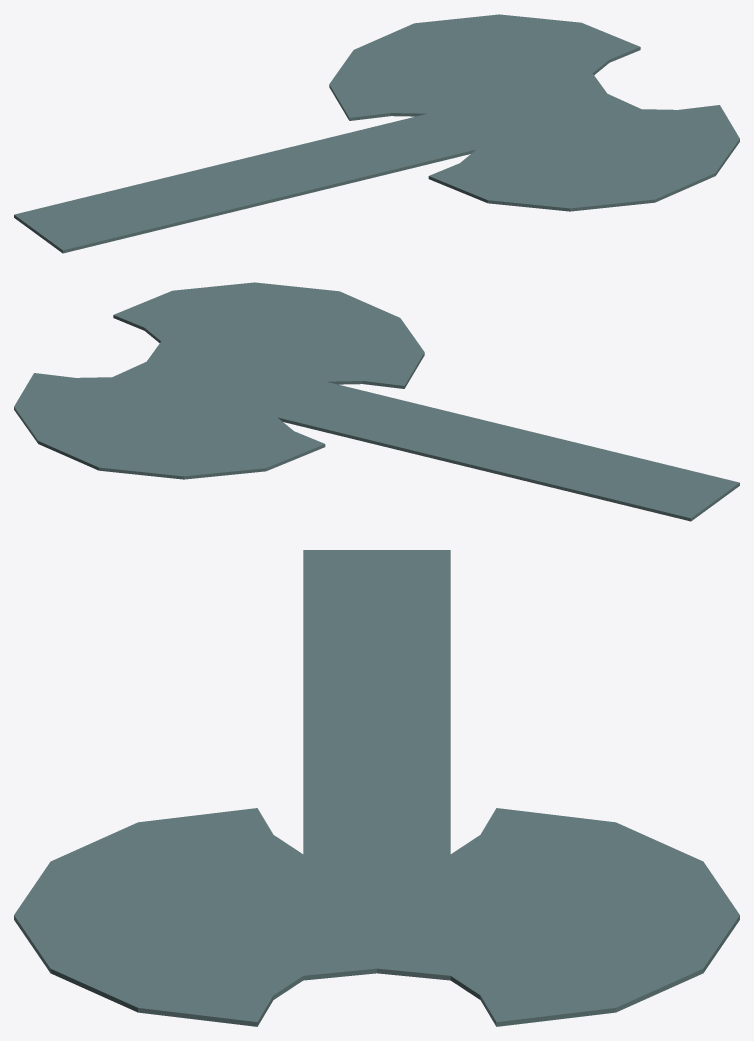
Rendered from mapa_piso.fbx.
3 renders of one model, top to bottom at view 1: azimuth 30°, elevation 25°; view 2: azimuth 150°, elevation 25°; view 3: azimuth 270°, elevation 25°, orthographic. The views are drawn at different scales.
Parts seen in each view (by area): view 1: Mapa_Completo; view 2: Mapa_Completo; view 3: Mapa_Completo.
Boxes of the visible parts, left/top/right/bottom form: Mapa_Completo: left=14, top=14, right=739, bottom=253; Mapa_Completo: left=14, top=282, right=739, bottom=521; Mapa_Completo: left=14, top=550, right=739, bottom=1026.
Size of the model in its own units: 85.34 by 0.4 by 55.45.
